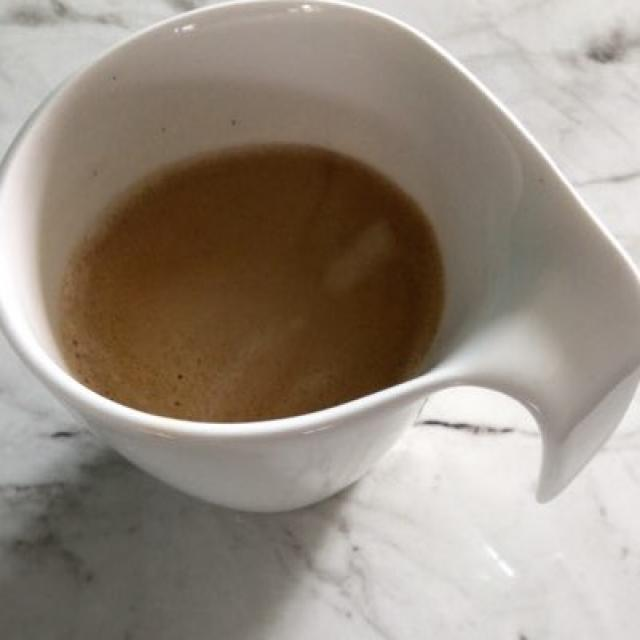espresso-with-caffeine: (58, 151, 446, 414)
